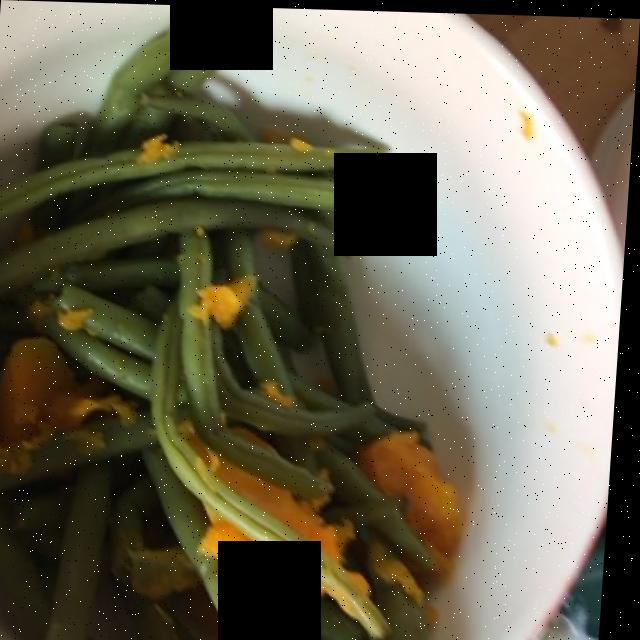french-beans: (0, 43, 467, 640)
pumpkin: (0, 339, 485, 630)
